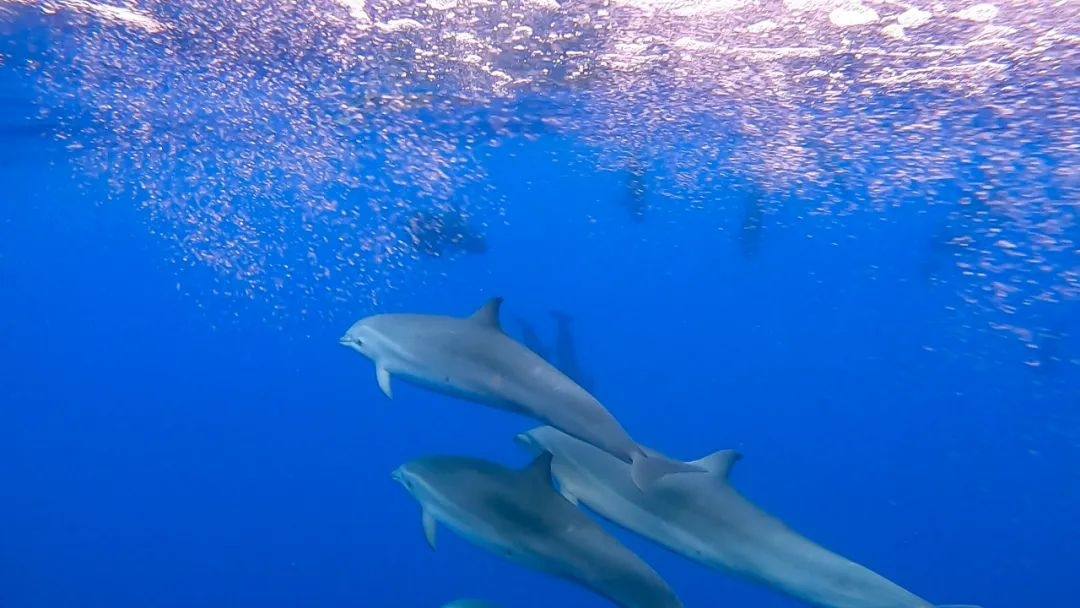fish: (512, 418, 942, 608), (332, 294, 710, 502), (382, 444, 690, 608)
